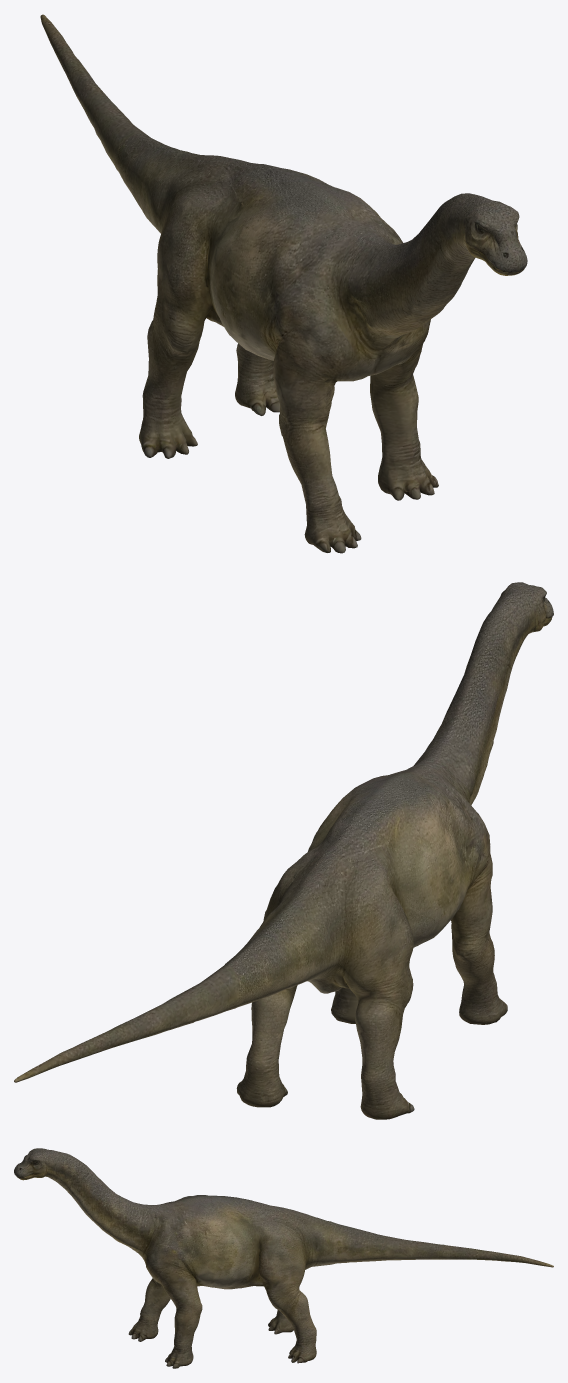
Rendered from apatosaurus.glb.
The picture shows the model from 3 angles, top to bottom: view 1: azimuth 30°, elevation 25°; view 2: azimuth 150°, elevation 25°; view 3: azimuth 270°, elevation 25°; orthographic projection. The views are drawn at different scales.
Visible parts, largest first — view 1: dino; view 2: dino; view 3: dino.
Boxes of the visible parts, x1=… form: dino: x1=40, y1=14, x2=527, y2=553; dino: x1=14, y1=582, x2=553, y2=1119; dino: x1=14, y1=1148, x2=553, y2=1368.
Bounding box in the file's own units: 4.48 × 8.97 × 22.
Materials: 1 (1 with a texture image).
